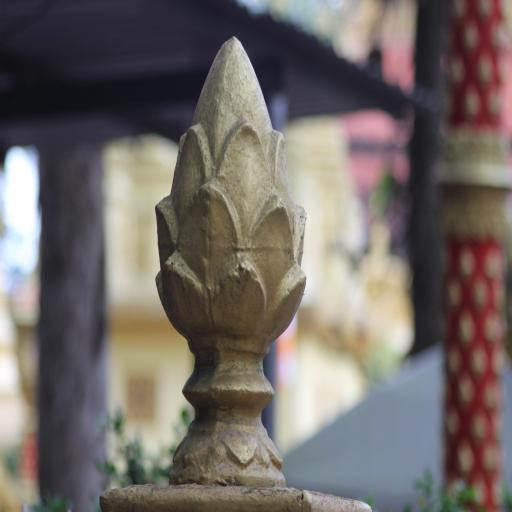hoa: (139, 30, 321, 414)
